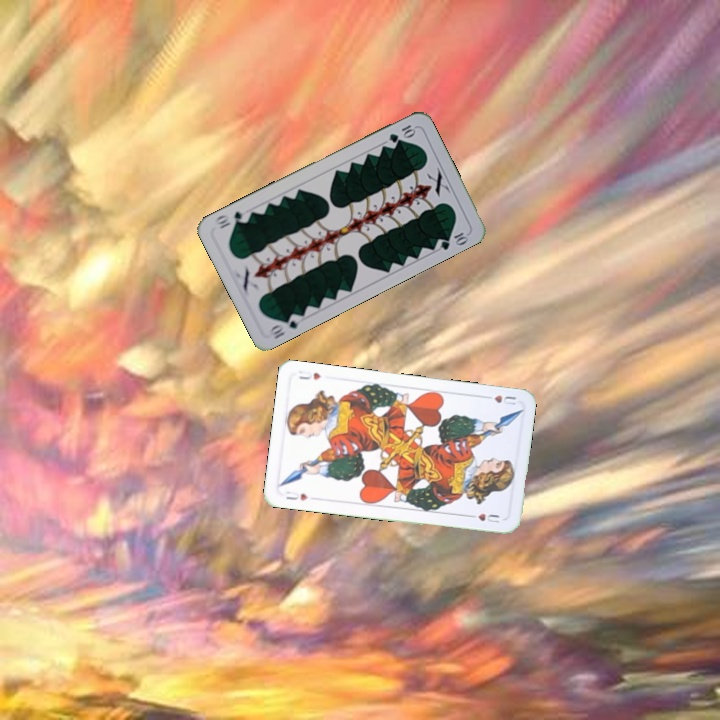G10: (264, 309, 305, 341), (385, 120, 418, 145)
HU: (480, 391, 519, 407), (282, 487, 311, 503)
